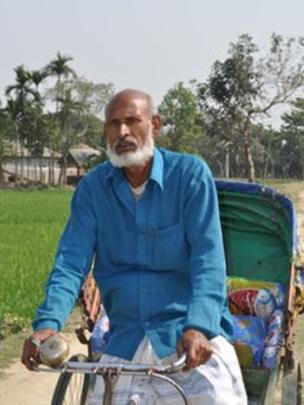Rickshaw: (50, 156, 290, 404)
